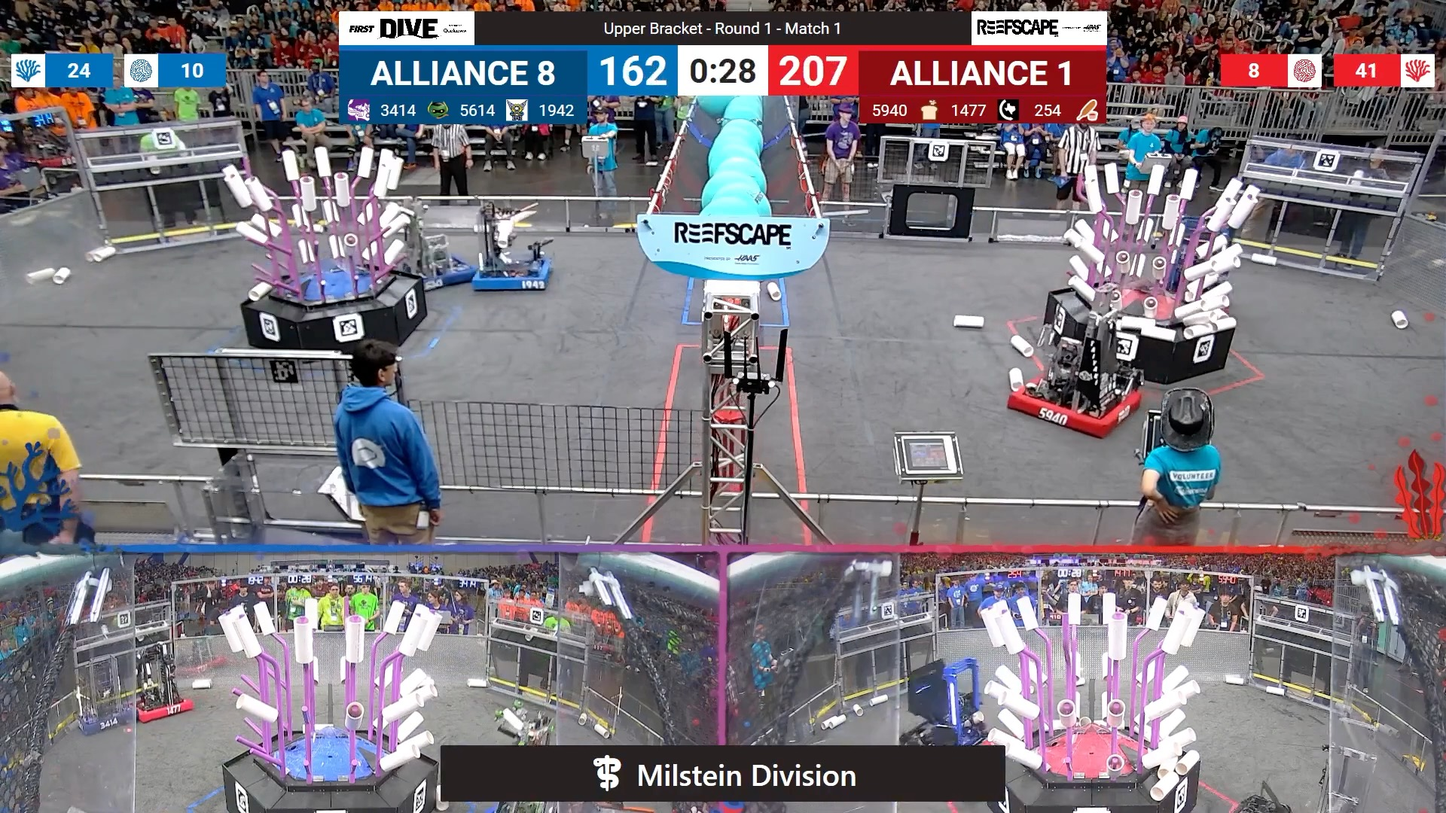bumpers: (998, 371, 1154, 442), (466, 252, 563, 297), (386, 252, 477, 292), (123, 690, 202, 725), (77, 702, 142, 737)
